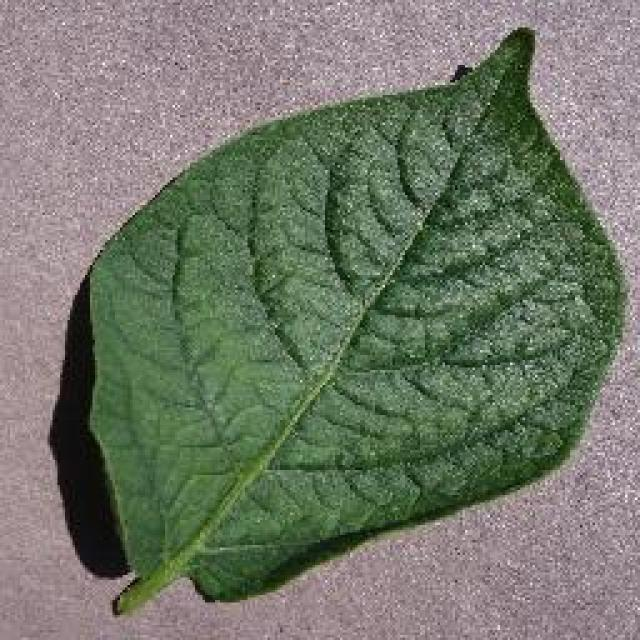Potato: (80, 23, 628, 615)
